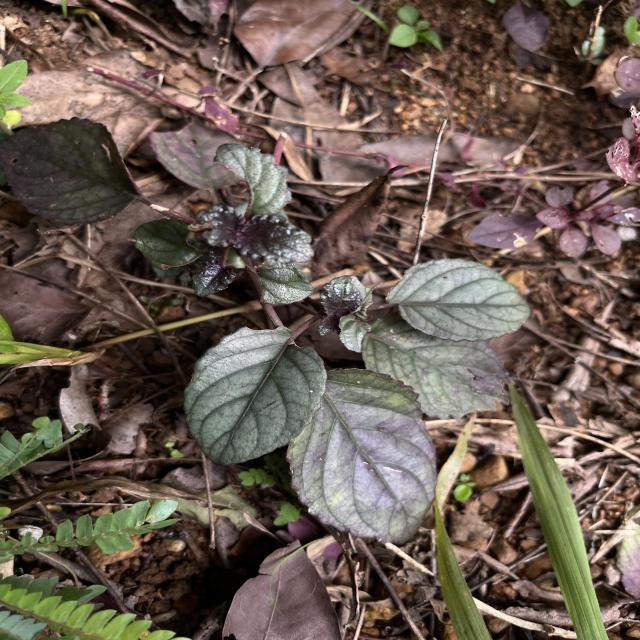Hemigraphis colorata: (281, 364, 439, 546), (179, 320, 331, 468), (358, 308, 517, 422), (0, 112, 141, 228), (386, 255, 534, 344)
